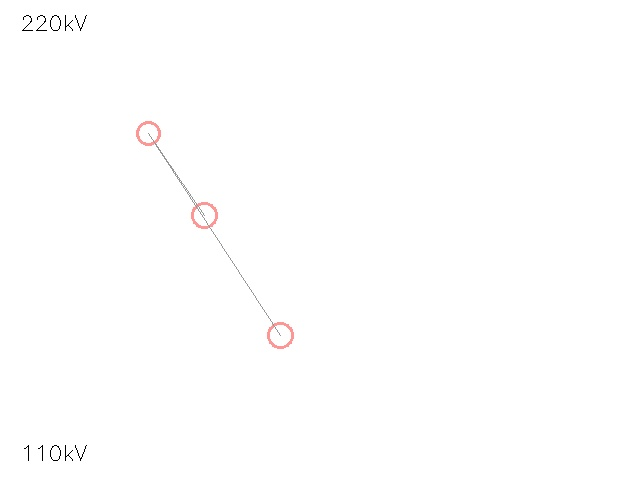feeder_terminal: (126, 111, 170, 155)
load_break_switch: (256, 311, 304, 359)
voltage_transformer: (180, 191, 228, 239)
